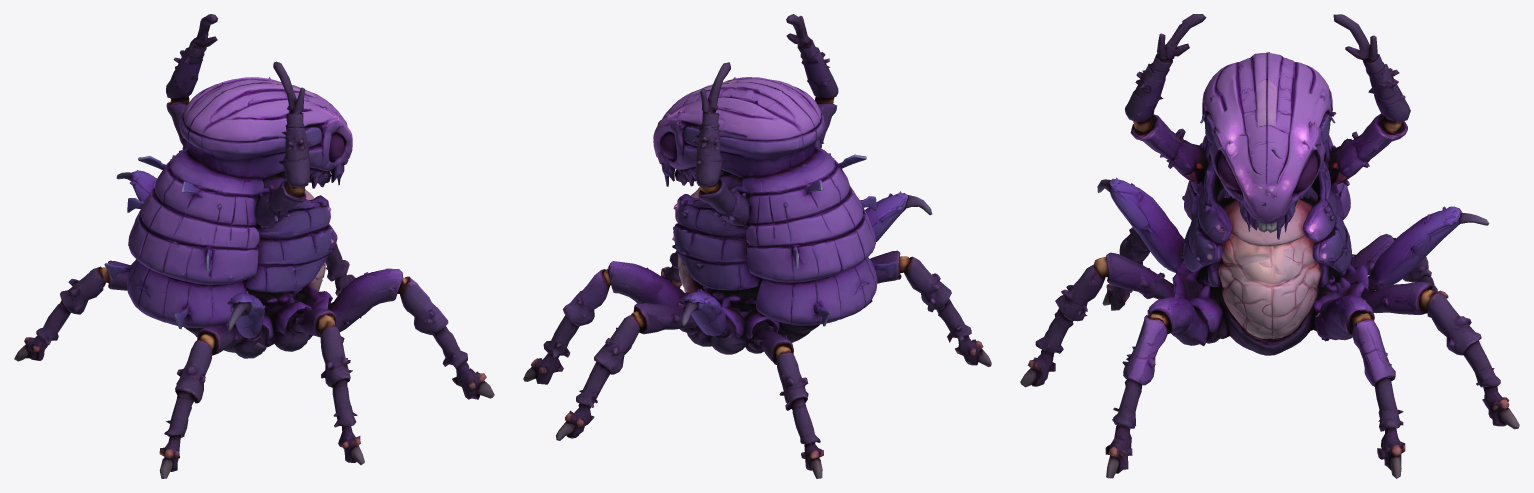
File: rampant.glb
The picture shows the model from 3 angles, left to right: view 1: azimuth 30°, elevation 25°; view 2: azimuth 150°, elevation 25°; view 3: azimuth 270°, elevation 25°; orthographic projection. The views are drawn at different scales.
Visible parts, largest first — view 1: tripo_node_6fba9b88-24e9-4247-a85c-96e419f297e7; view 2: tripo_node_6fba9b88-24e9-4247-a85c-96e419f297e7; view 3: tripo_node_6fba9b88-24e9-4247-a85c-96e419f297e7.
Boxes of the visible parts, x1,y1,x2,y2 form: tripo_node_6fba9b88-24e9-4247-a85c-96e419f297e7: (14,14,494,478); tripo_node_6fba9b88-24e9-4247-a85c-96e419f297e7: (523,14,991,478); tripo_node_6fba9b88-24e9-4247-a85c-96e419f297e7: (1020,14,1519,478).
Size of the model in its own units: 0.8434 by 0.8287 by 1.
Materials: 1 (1 with a texture image).
